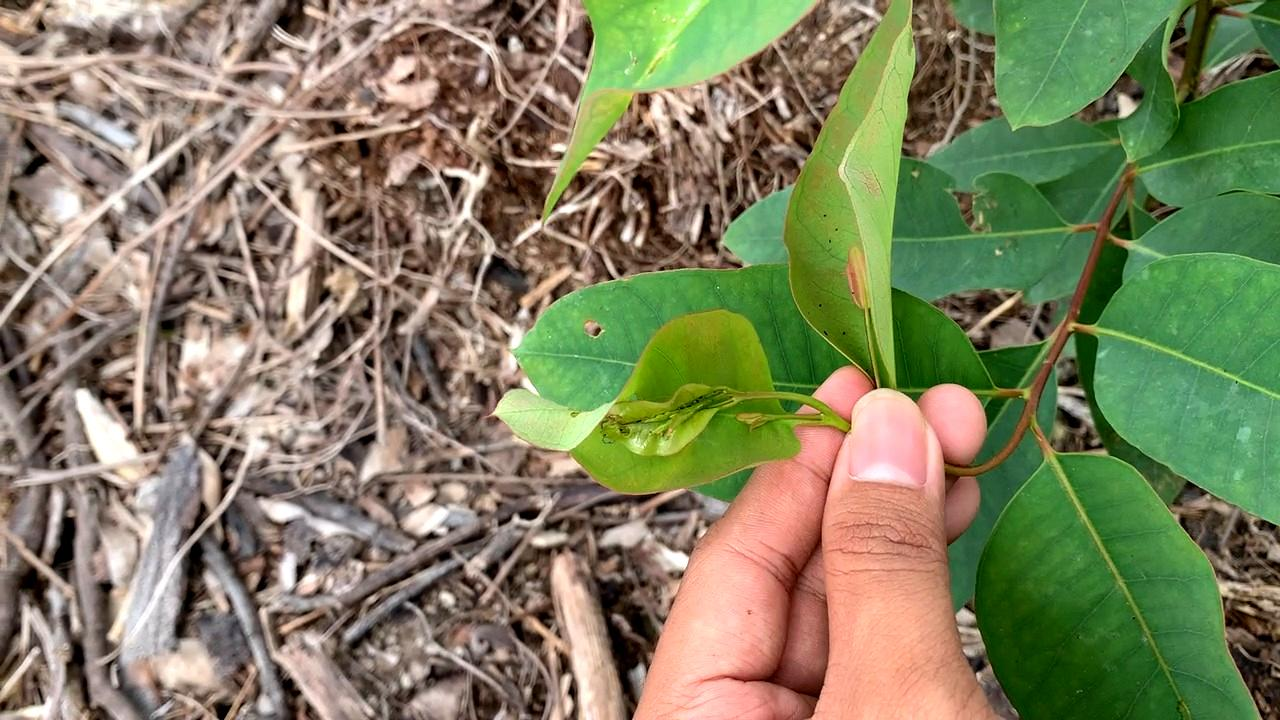Leaf Roller - Leaf: (492, 309, 803, 527)
